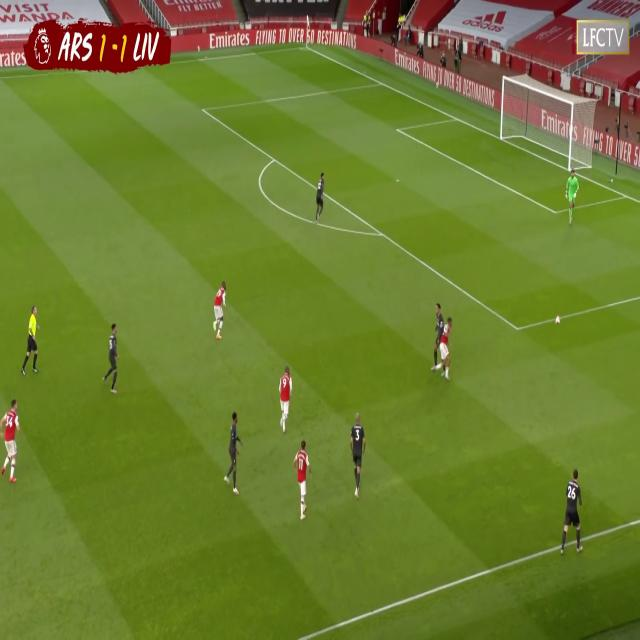Ball: (556, 314, 561, 333)
GoalKeeper: (565, 171, 580, 223)
TEAM 1: (562, 469, 587, 557), (224, 412, 246, 492), (350, 416, 367, 499), (104, 323, 122, 395), (430, 302, 447, 373), (313, 172, 325, 222)
TEAM 2: (3, 402, 23, 486), (294, 443, 310, 521), (440, 317, 456, 381), (279, 368, 293, 436), (213, 280, 228, 341)
